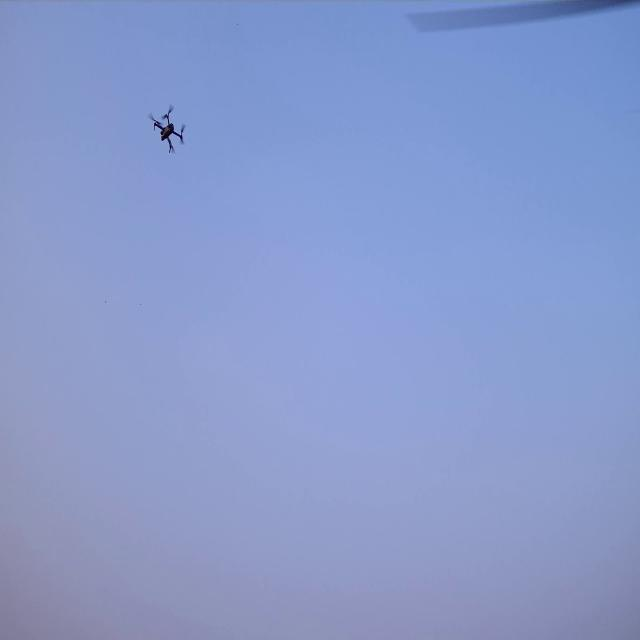UAV: (148, 103, 188, 155)
